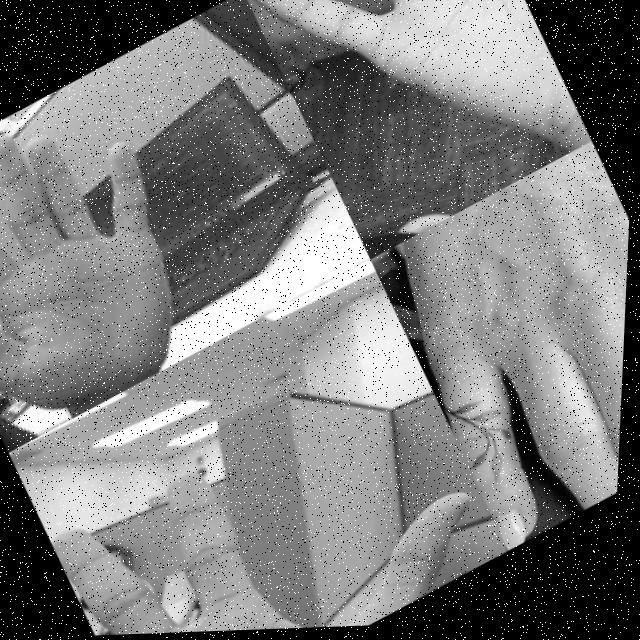hand: (50, 345, 516, 638), (362, 144, 634, 559), (0, 76, 237, 450), (239, 0, 579, 225)
